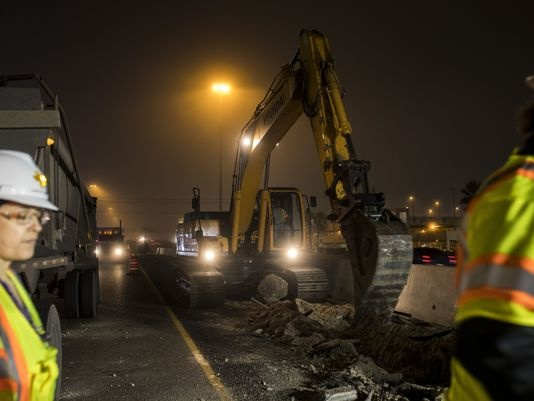white: (1, 147, 50, 262)
